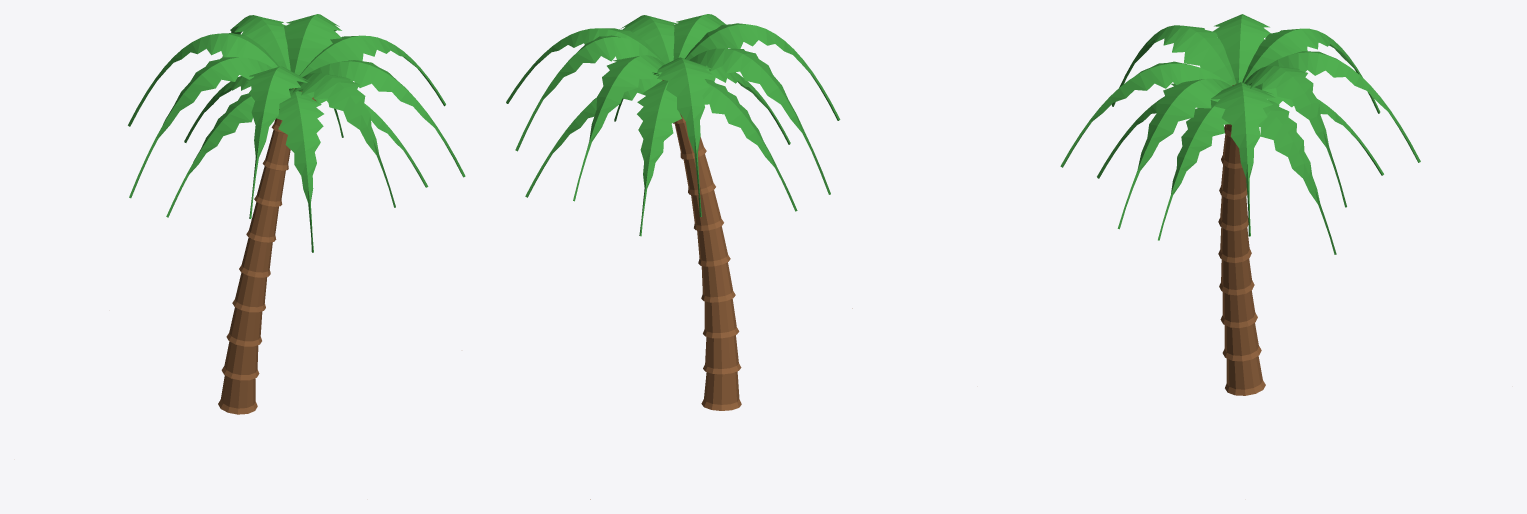
File: SandPalm.obj
3 renders of one model, left to right at view 1: azimuth 30°, elevation 25°; view 2: azimuth 150°, elevation 25°; view 3: azimuth 270°, elevation 25°, orthographic. The views are drawn at different scales.
Visible parts, largest first — view 1: Frond, Trunk; view 2: Frond, Trunk; view 3: Frond, Trunk.
Part boxes in pixels (<box>): Frond: <box>128,14,465,252</box>; Trunk: <box>218,118,290,414</box>; Frond: <box>506,14,840,236</box>; Trunk: <box>590,114,852,499</box>; Frond: <box>1060,14,1420,254</box>; Trunk: <box>1218,124,1265,395</box>.
Bounding box in the file's own units: 28.04 × 21.17 × 28.04.
